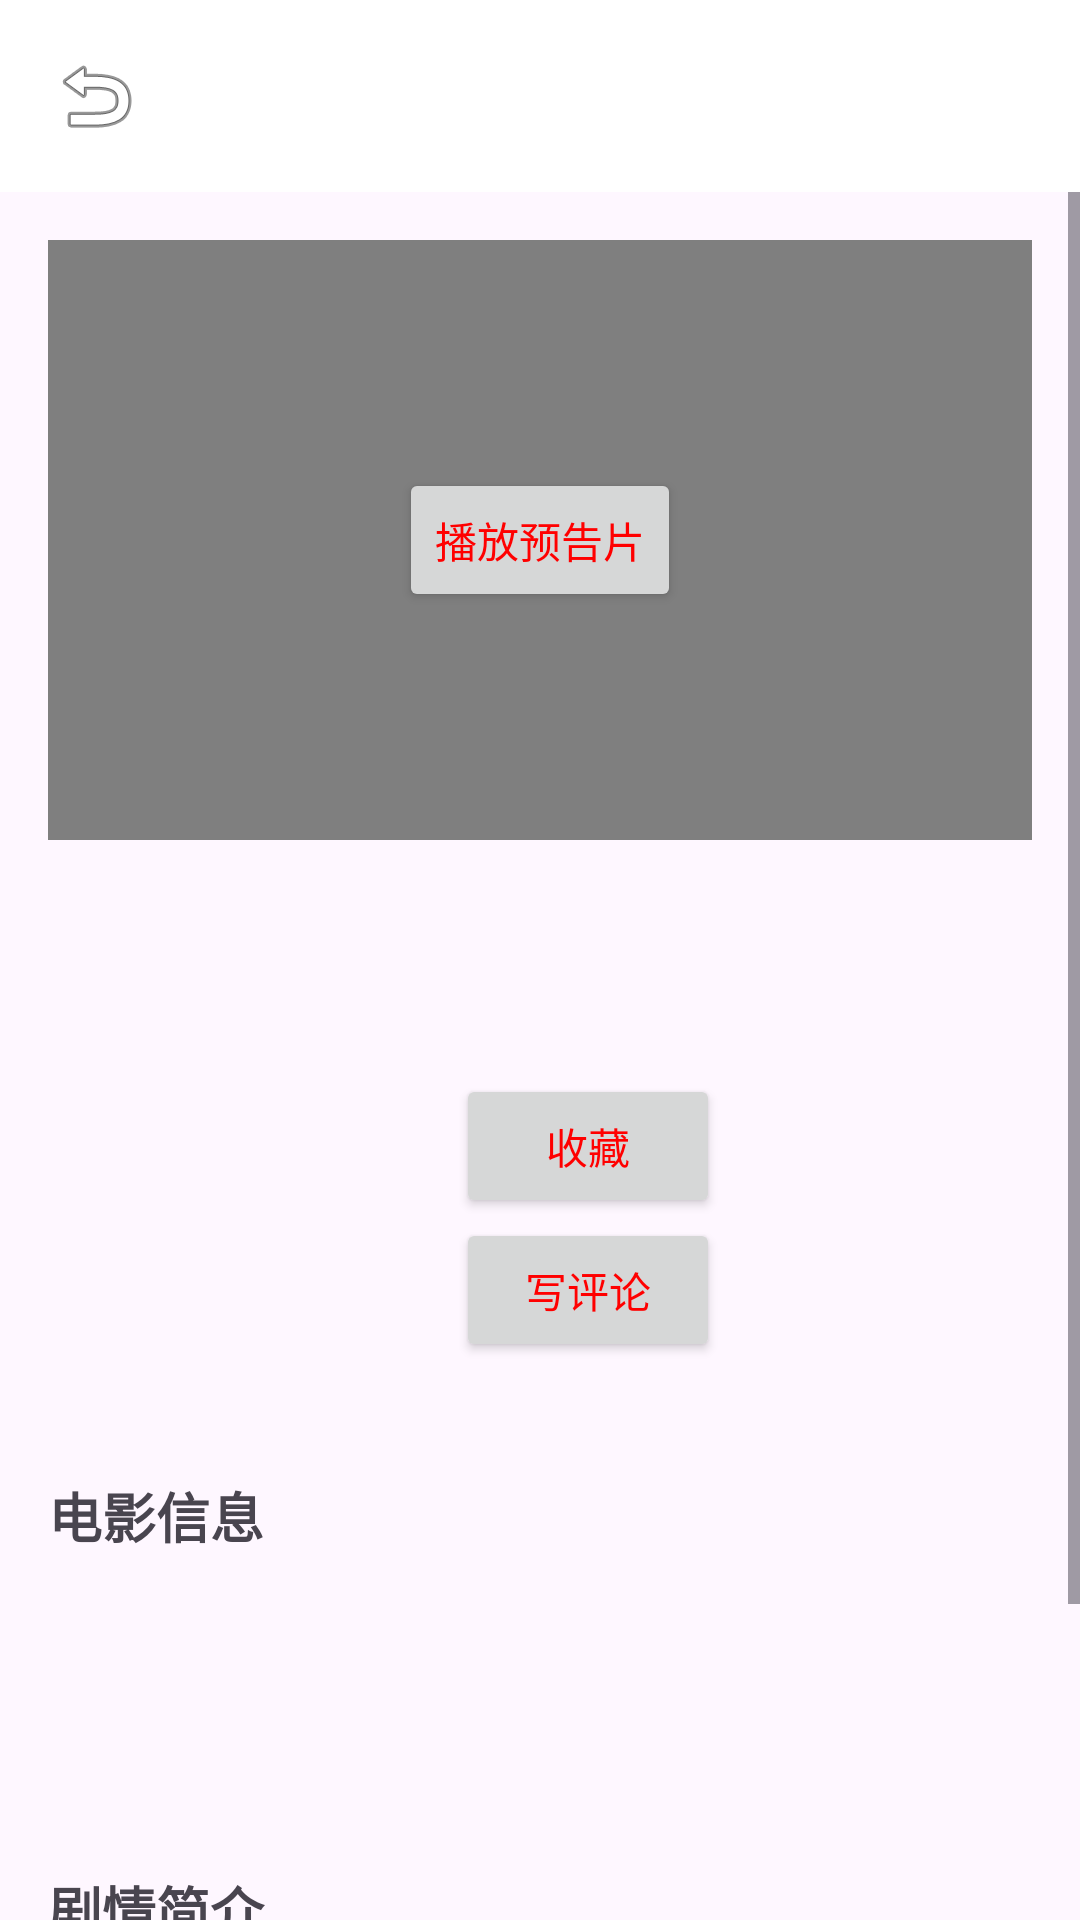

Icons on this 1080px×1920px Android screen, each with the point to tap as point (x, y):
返回: point (97, 96)
